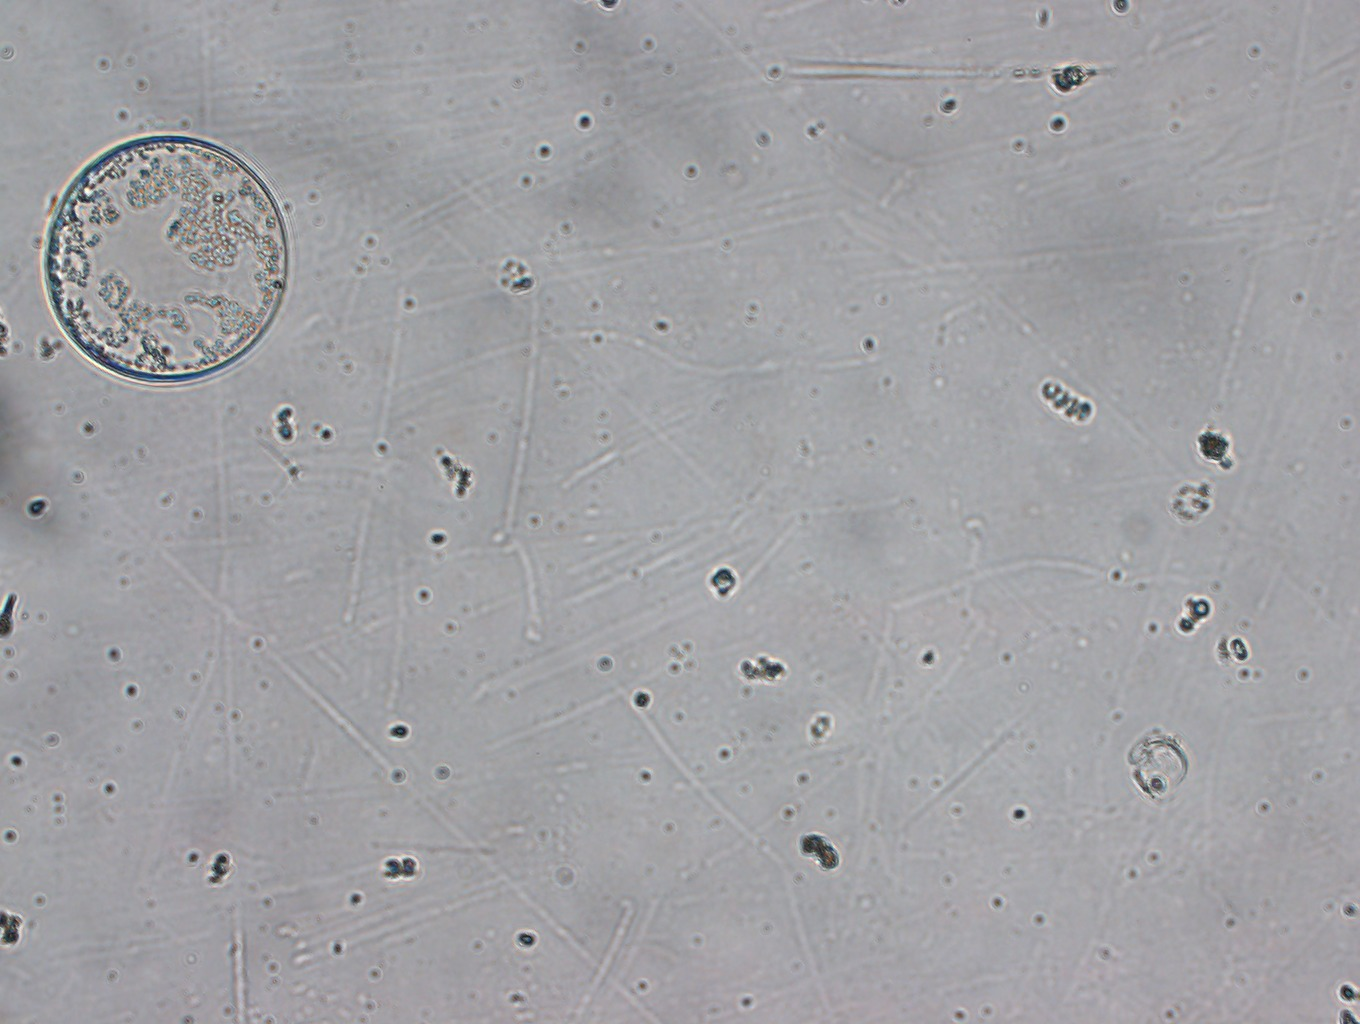coscinodiscus: (40, 131, 290, 388)
